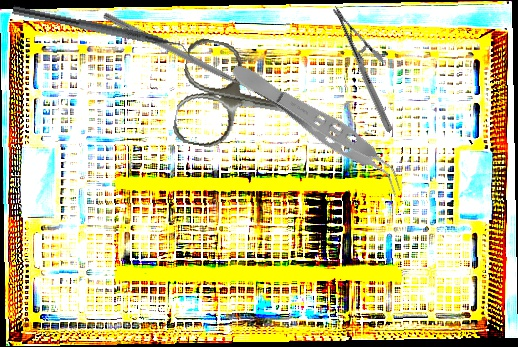Chopper: (97, 11, 261, 105), (9, 5, 198, 63)
Iris Scissors: (170, 36, 330, 167)
Needle Holder: (294, 6, 431, 133)
Tissue Forceps: (224, 55, 414, 198)
